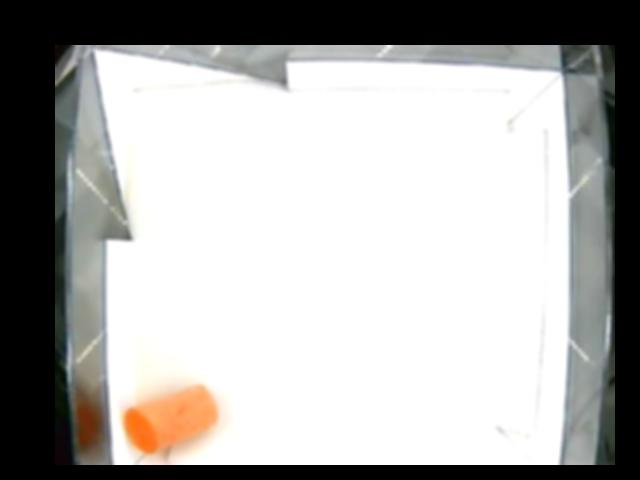Carrot: (123, 382, 216, 454)
